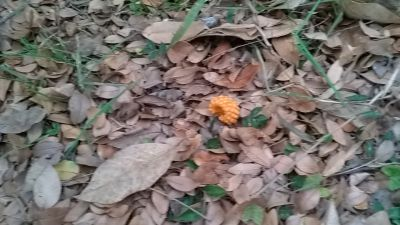eggs: (210, 94, 239, 123)
